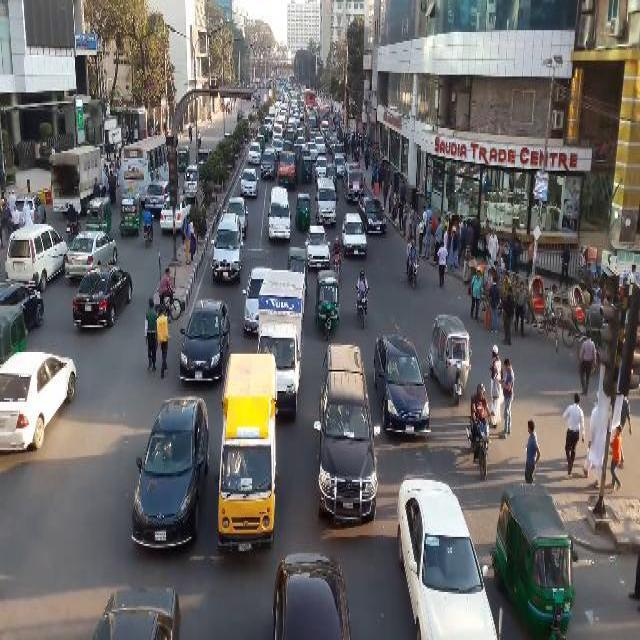Ad-signs: (432, 135, 592, 173)
Bike: (354, 289, 368, 329)
Car: (395, 476, 498, 639), (128, 395, 209, 551), (372, 327, 431, 438)
MiniBus: (215, 352, 278, 552), (312, 342, 378, 526)
